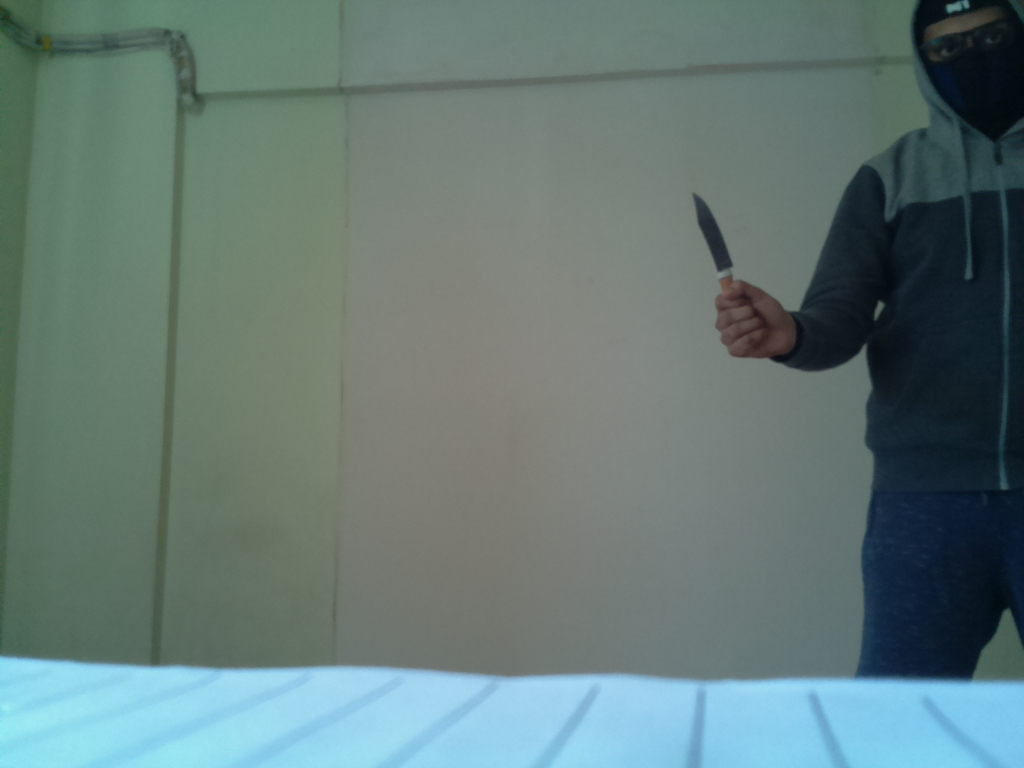knife: (679, 186, 739, 298)
